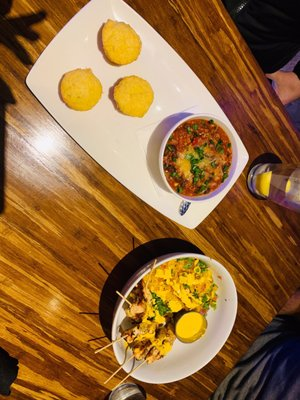sushi: (145, 111, 250, 208)
taco: (175, 311, 207, 343)
